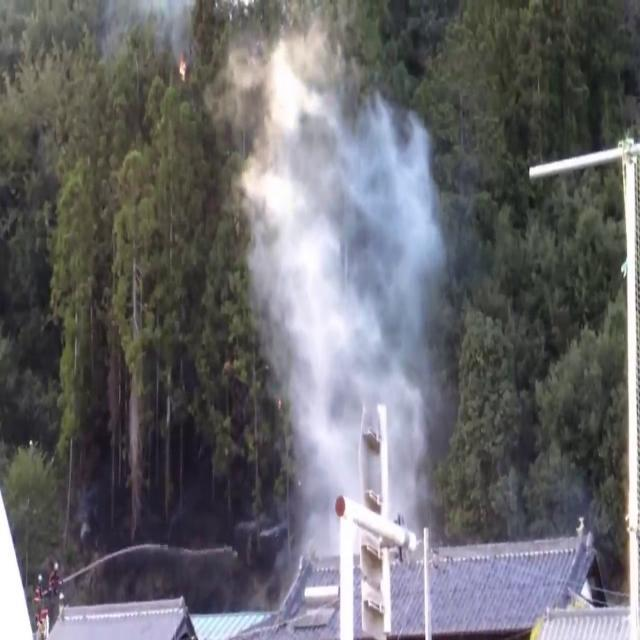Smoke: (225, 13, 450, 535)
